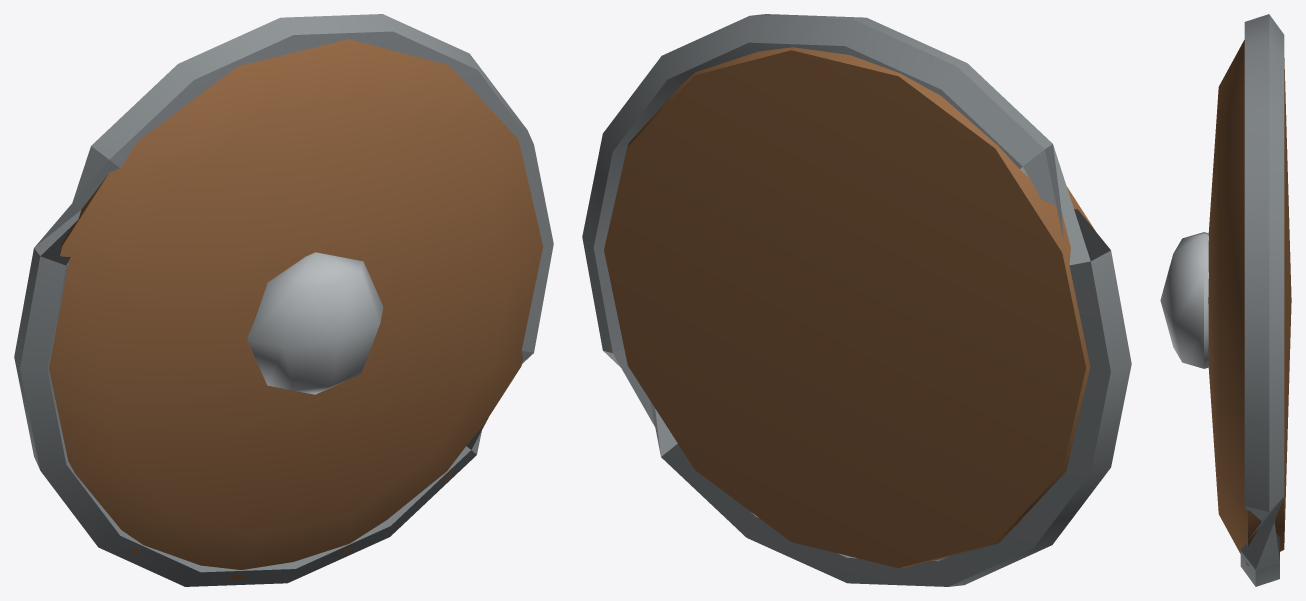
The model's file is shield-buckler.glb.
3 renders of one model, left to right at view 1: azimuth 30°, elevation 25°; view 2: azimuth 150°, elevation 25°; view 3: azimuth 270°, elevation 25°, orthographic. The views are drawn at different scales.
Parts seen in each view (by area): view 1: shield-buckler; view 2: shield-buckler; view 3: shield-buckler.
Part boxes in pixels (x1,y1,x2,y2): shield-buckler: [14, 14, 553, 586]; shield-buckler: [582, 14, 1131, 586]; shield-buckler: [1160, 14, 1291, 586].
Bounding box in the file's own units: 0.1574 × 0.1574 × 0.036.
